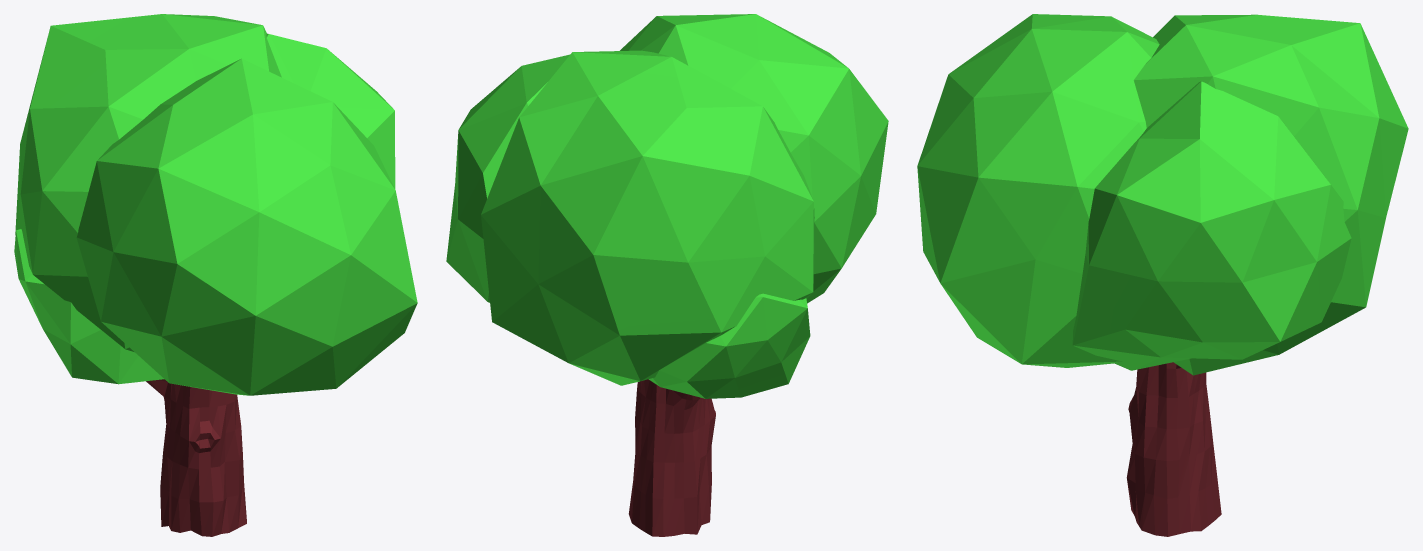
File: tree2.glb
3 renders of one model, left to right at view 1: azimuth 30°, elevation 25°; view 2: azimuth 150°, elevation 25°; view 3: azimuth 270°, elevation 25°, orthographic. The views are drawn at different scales.
Visible parts, largest first — view 1: Cylinder; view 2: Cylinder; view 3: Cylinder.
Boxes of the visible parts, bbox=[...] form: Cylinder: bbox=[14, 14, 417, 536]; Cylinder: bbox=[446, 14, 888, 536]; Cylinder: bbox=[917, 14, 1408, 536].
Bounding box in the file's own units: 1.96 × 2.59 × 2.32.
